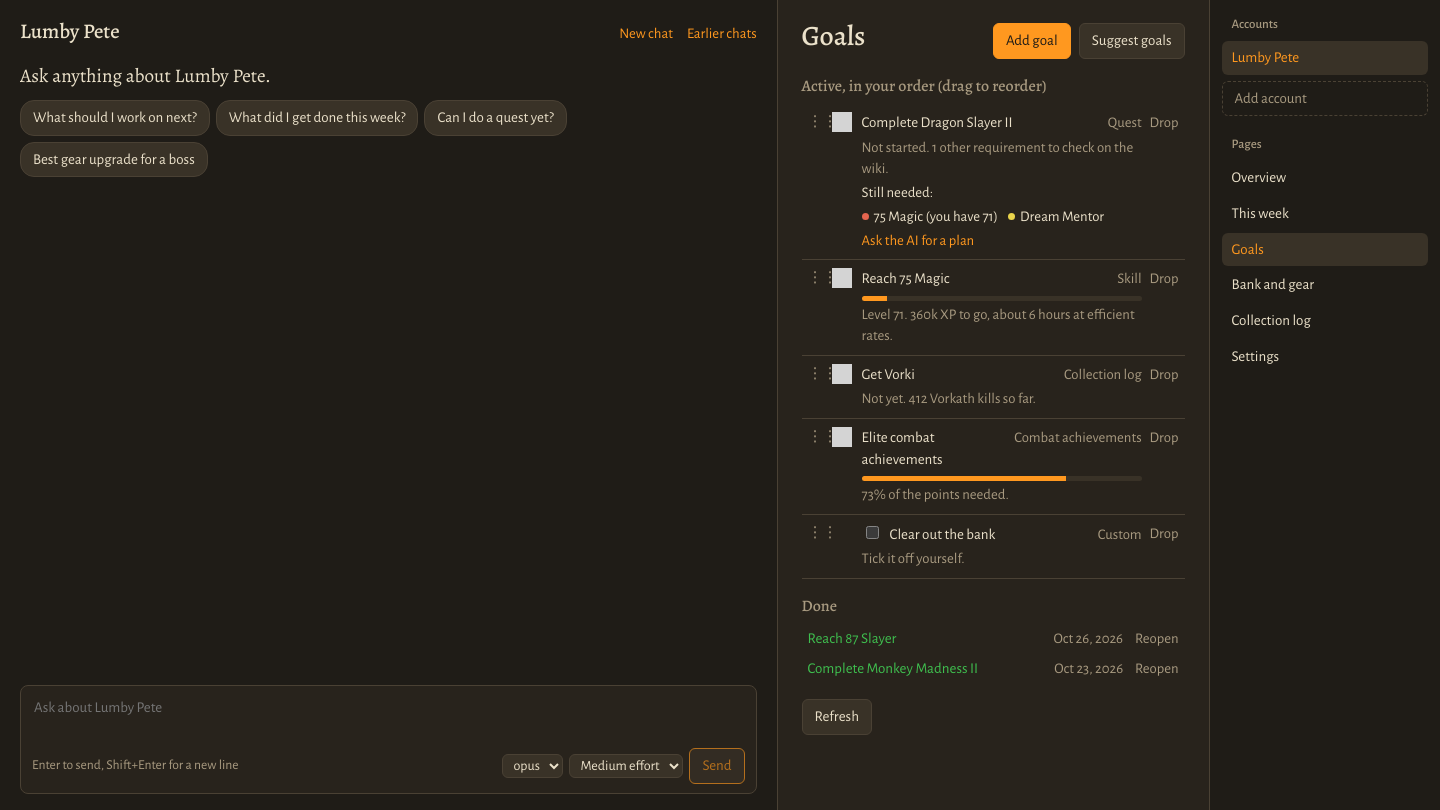
Test case: Goals › leaves a custom goal's box unticked when ticking it off failed
Click the checkbox named "Done: Clear out the bank" at coordinates (872, 532), box [866,526,879,539]
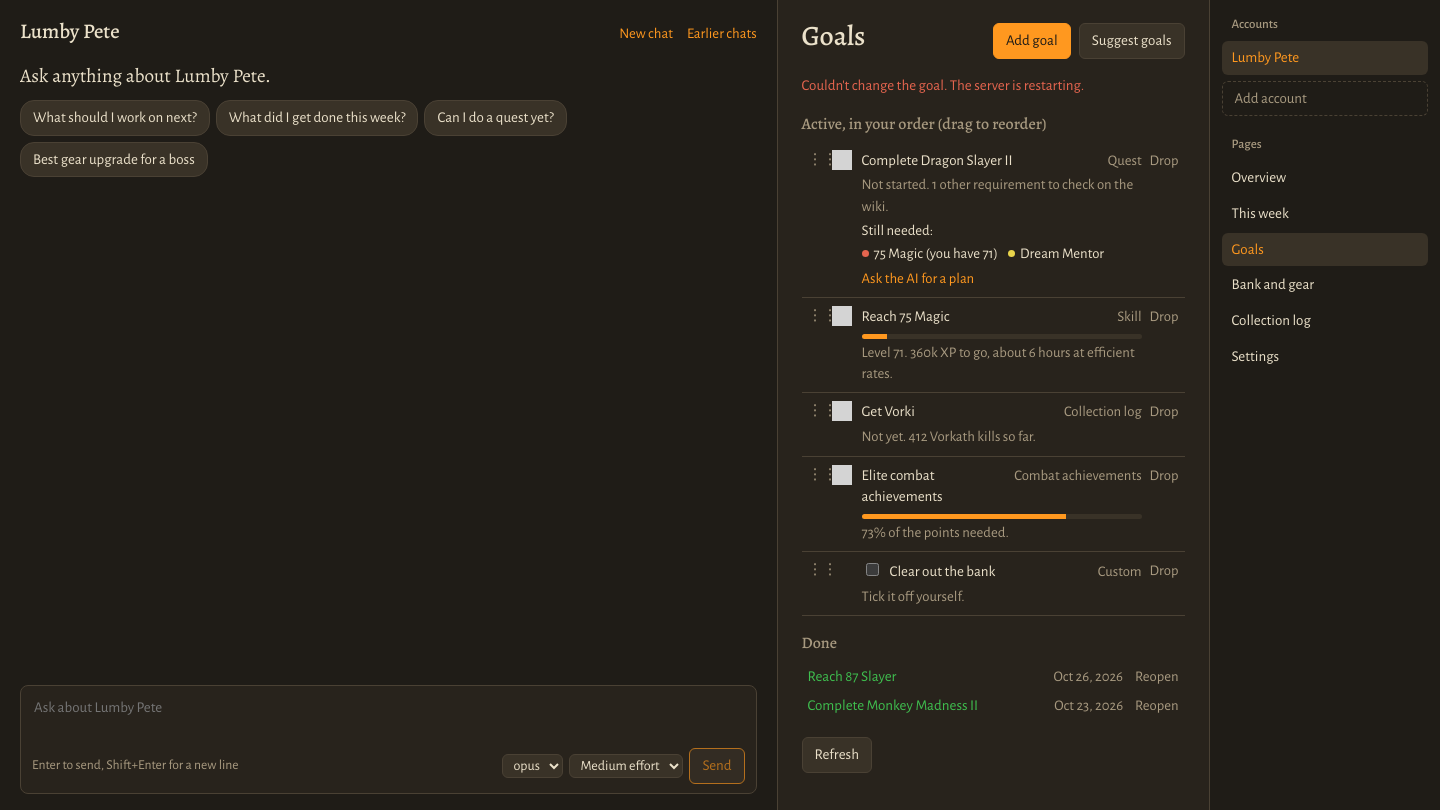
Expected: the checkbox named "Done: Clear out the bank" is not checked, [866,563,879,576]
Expected: the text "Couldn't change the goal. The server is restarting." is shown, [802,78,1084,93]
